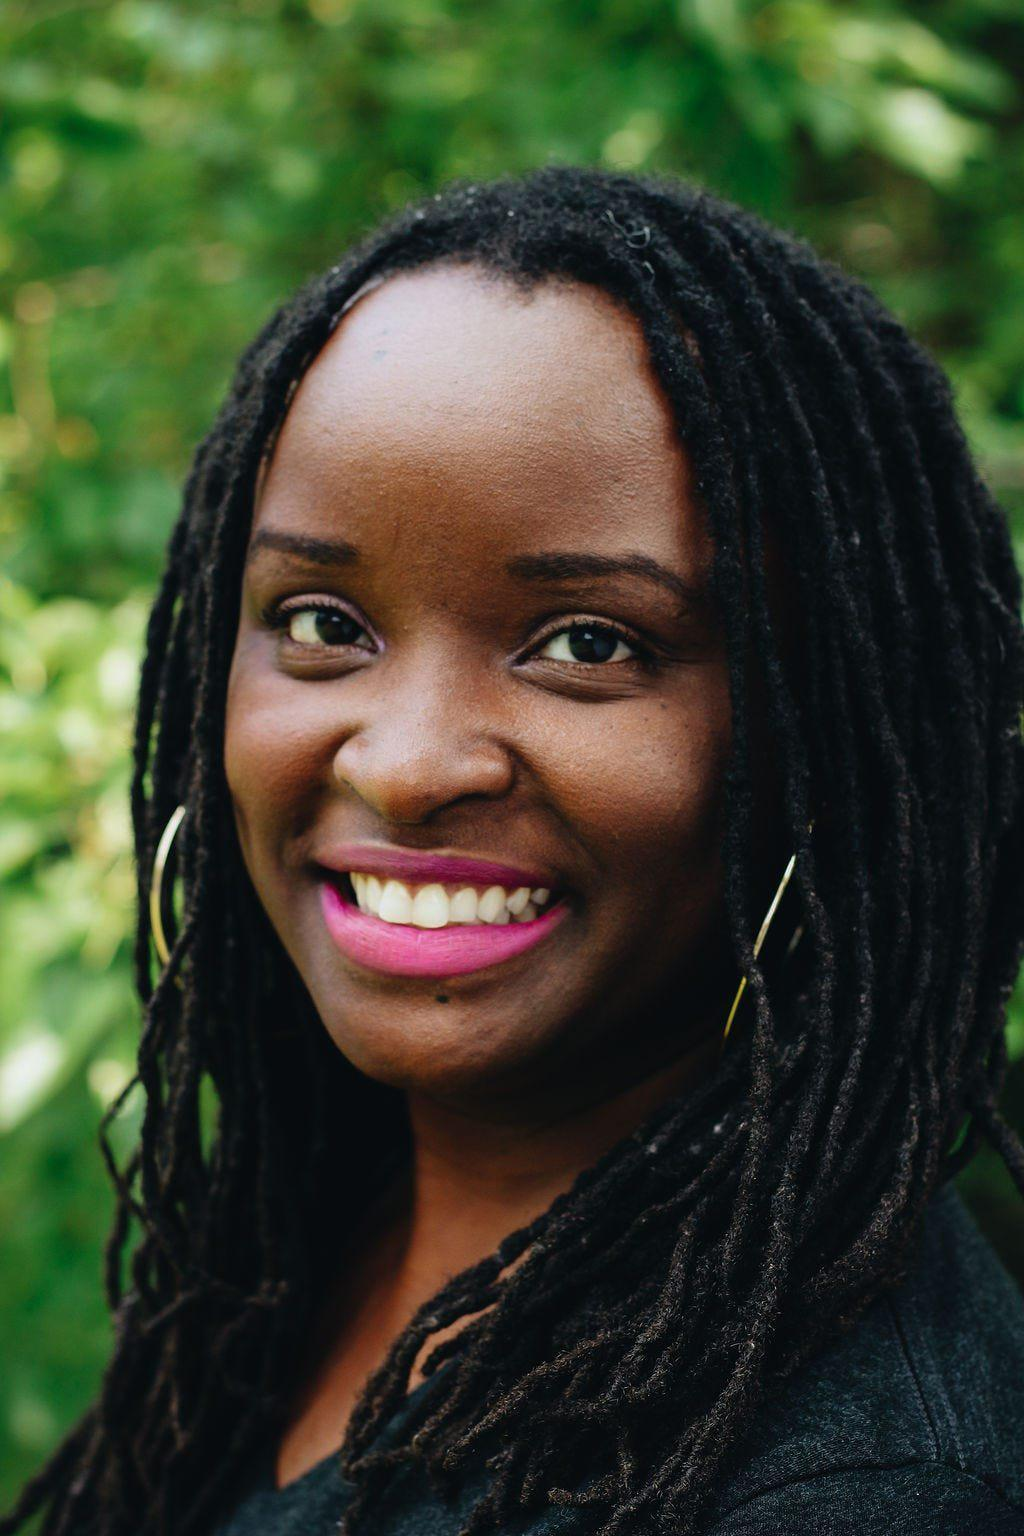Sober: (241, 277, 707, 1033)
